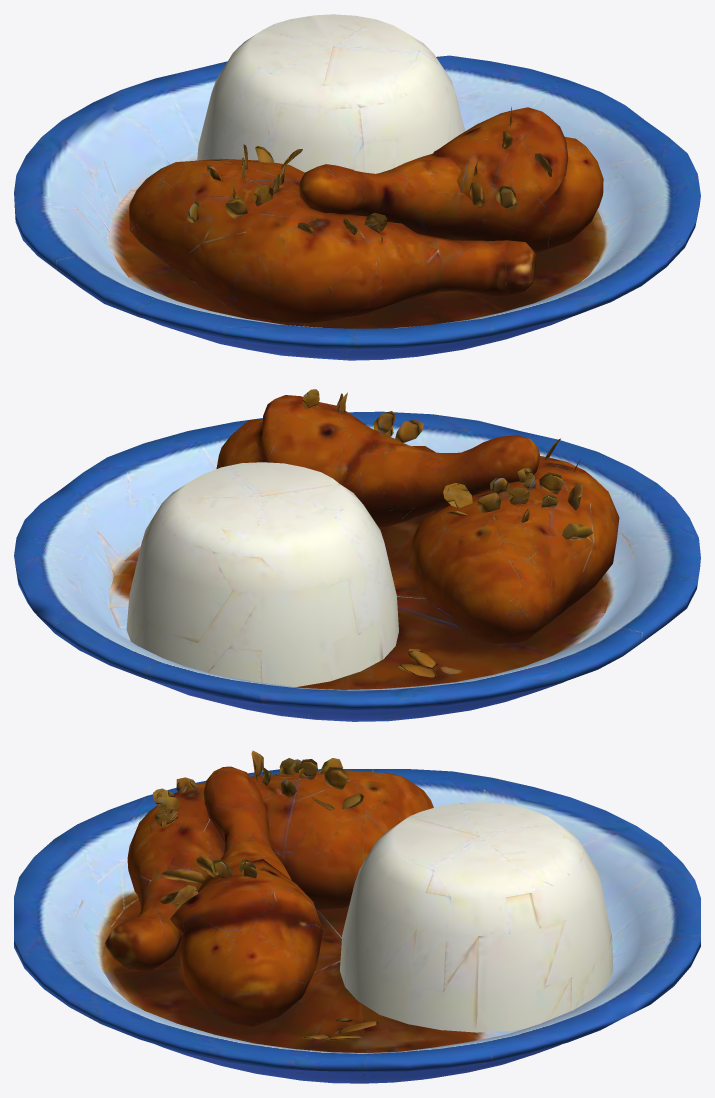
File: adobo.glb
3 views of the same model, one above another, from view 1: azimuth 30°, elevation 25°; view 2: azimuth 150°, elevation 25°; view 3: azimuth 270°, elevation 25° (orthographic).
Parts seen in each view (by area): view 1: geometry_0; view 2: geometry_0; view 3: geometry_0.
Boxes of the visible parts, bbox=[...] form: geometry_0: bbox=[14, 14, 700, 360]; geometry_0: bbox=[14, 389, 700, 721]; geometry_0: bbox=[14, 750, 700, 1083].
Bounding box in the file's own units: 1 × 0.2826 × 1.
1 material, 1 textured.
